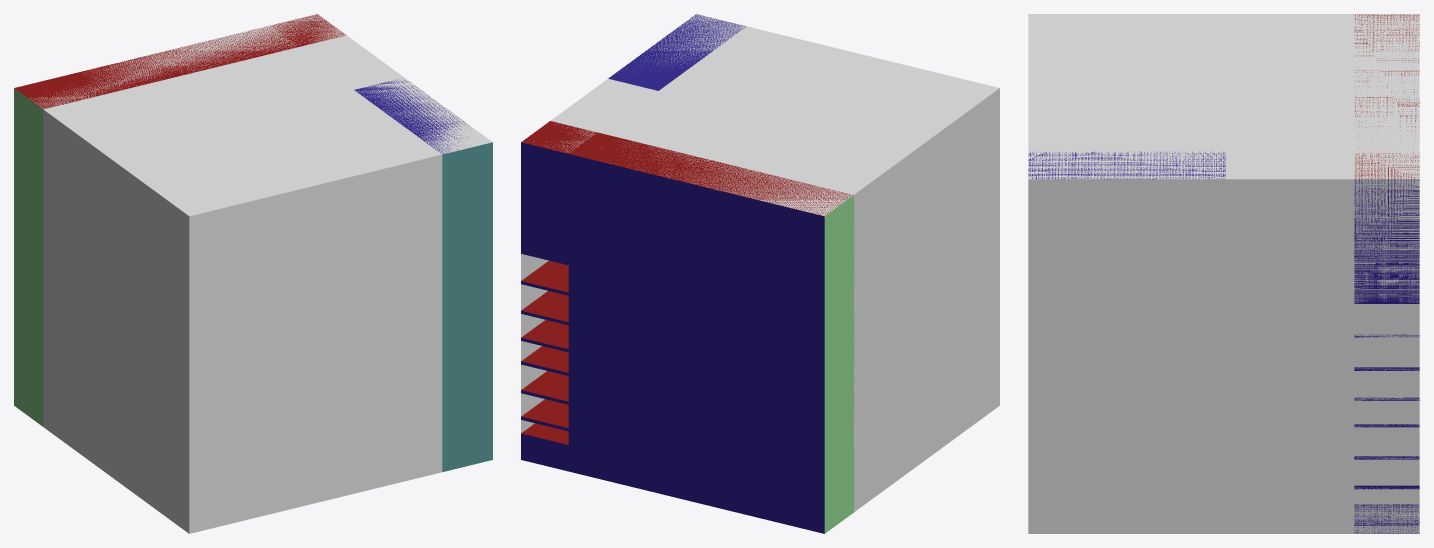
The model's file is Bureau.FBX.
3 renders of one model, left to right at view 1: azimuth 30°, elevation 25°; view 2: azimuth 150°, elevation 25°; view 3: azimuth 270°, elevation 25°, orthographic. The views are drawn at different scales.
Parts seen in each view (by area): view 1: murarriere bureau, Office_Box, mur cote bureau, Fireplace_Wall, Seat_Wall; view 2: Seat_Wall, mur cote bureau, Office_Box, Fireplace_Wall, mur porte; view 3: mur porte, Office_Box, Seat_Wall, Fireplace_Wall.
Boxes of the visible parts, bbox=[...] form: murarriere bureau: bbox=[189, 154, 442, 533]; Office_Box: bbox=[30, 14, 492, 216]; mur cote bureau: bbox=[43, 109, 189, 533]; Fireplace_Wall: bbox=[354, 80, 492, 471]; Seat_Wall: bbox=[14, 14, 345, 426]; Seat_Wall: bbox=[521, 121, 853, 533]; mur cote bureau: bbox=[825, 88, 999, 511]; Office_Box: bbox=[534, 14, 999, 216]; Fireplace_Wall: bbox=[608, 14, 745, 90]; mur porte: bbox=[521, 254, 548, 433]; mur porte: bbox=[1028, 179, 1419, 533]; Office_Box: bbox=[1028, 14, 1419, 179]; Seat_Wall: bbox=[1354, 14, 1419, 533]; Fireplace_Wall: bbox=[1028, 151, 1225, 179].
Bounding box in the file's own units: 600 × 600 × 600.
